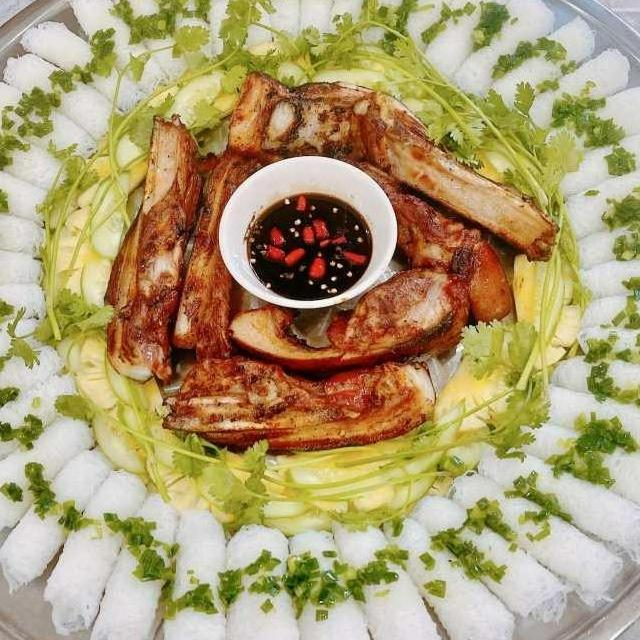banh hoi: (438, 464, 628, 614), (402, 490, 582, 630), (472, 437, 640, 571), (37, 463, 152, 640), (373, 508, 519, 640), (0, 442, 121, 600), (84, 484, 181, 640), (326, 515, 444, 640), (501, 414, 640, 520), (11, 17, 150, 114), (0, 403, 101, 536), (486, 9, 602, 115), (0, 48, 129, 143), (282, 522, 382, 640), (446, 0, 557, 100), (522, 42, 634, 140), (0, 365, 80, 502), (63, 0, 175, 96), (531, 378, 640, 476), (158, 501, 233, 640), (219, 521, 304, 640), (417, 0, 522, 89), (0, 78, 100, 164), (542, 348, 640, 428), (0, 338, 71, 448), (544, 82, 640, 163), (102, 0, 195, 83), (554, 156, 640, 240), (552, 125, 640, 205), (0, 109, 79, 196), (137, 0, 223, 65), (565, 196, 640, 268), (392, 0, 472, 65), (0, 145, 61, 228), (356, 0, 438, 60), (569, 320, 640, 386), (183, 0, 262, 59), (322, 0, 401, 55), (0, 312, 55, 389), (567, 242, 640, 300), (575, 280, 640, 345), (0, 189, 52, 257), (217, 0, 285, 49), (0, 279, 52, 343), (296, 0, 355, 56), (0, 243, 51, 301), (257, 0, 315, 50)
banh hoi heo quay: (0, 0, 640, 640)
